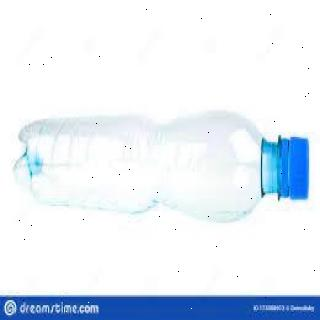Plastic-bottle: (14, 110, 313, 230)
